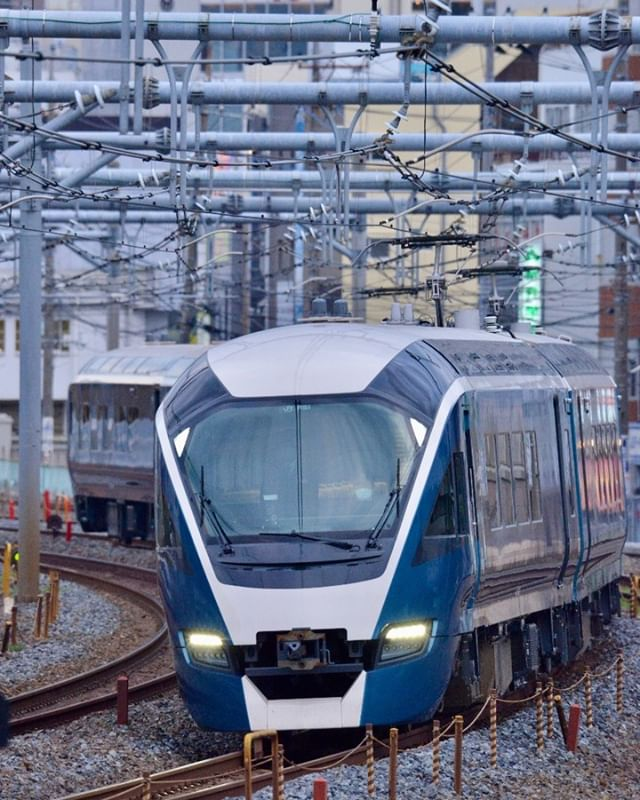train: (176, 242, 640, 777)
train track: (6, 546, 461, 799)
